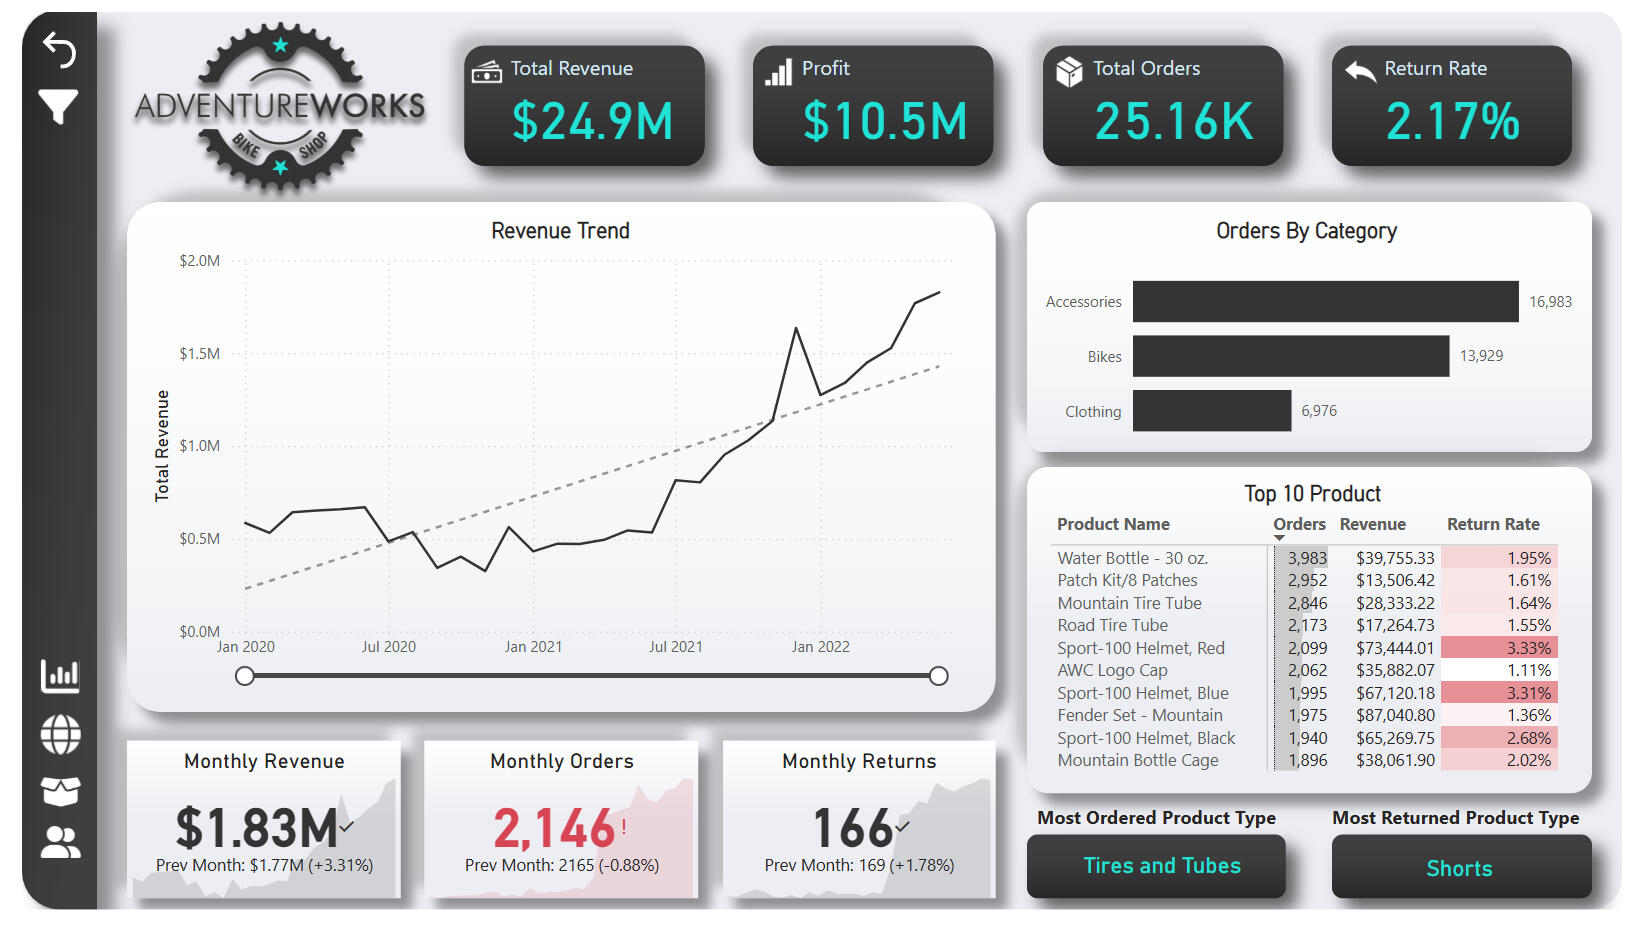

What the dashboard file says about the page in this screenshot:
{"tool":"powerbi","page":{"name":"Main Dashboard","canvas":[1280,720],"ordinal":0},"visuals":[{"type":"actionButton","box":[10.7,511.6,40,39.2],"z":0,"group":"g1"},{"type":"lineChart","title":"Revenue Trend","fields":{"Y":["Measure Table.Total Revenue"],"Category":["Calendar Lookup.Year","Calendar Lookup.Start of Quarter","Calendar Lookup.Start of Month"]},"box":[98.9,164.4,664.4,377.8],"z":1000},{"type":"actionButton","box":[10.7,557.4,40,40],"z":1000,"group":"g1"},{"type":"kpi","title":"Monthly Revenue","fields":{"Indicator":["Measure Table.Total Revenue"],"TrendLine":["Calendar Lookup.Start of Month"],"Goal":["Measure Table.Previous Month Revenue"]},"box":[84.5,589,220,125],"z":2000},{"type":"actionButton","box":[10.7,643.3,40,40],"z":2000,"group":"g1"},{"type":"kpi","title":"Monthly Orders","fields":{"TrendLine":["Calendar Lookup.Start of Month"],"Indicator":["Measure Table.Total Orders"],"Goal":["Measure Table.Previous Month Orders"]},"box":[322.5,589,220,125],"z":3000},{"type":"actionButton","box":[10.7,603.3,40,40],"z":3000,"group":"g1"},{"type":"kpi","title":"Monthly Returns","fields":{"TrendLine":["Calendar Lookup.Start of Month"],"Indicator":["Measure Table.Total Returns"],"Goal":["Measure Table.Previous Month Return"]},"box":[560.5,589,220,125],"z":4000},{"type":"clusteredBarChart","title":"Orders By Category","fields":{"Category":["Categories Lookup.CategoryName"],"Y":["Measure Table.Total Orders"]},"box":[808.9,164.4,437.8,195.6],"z":5000},{"type":"pivotTable","title":"Top 10 Product","fields":{"Rows":["Product Lookup.ProductName"],"Values":["Measure Table.Total Orders","Measure Table.Total Revenue","Measure Table.Return Rate"]},"box":[817.8,374.4,428.9,248.9],"z":6000},{"type":"card","fields":{"Values":["Min(Subcategories Lookup.SubcategoryName)"]},"box":[808.9,657.8,206.7,50],"z":7000},{"type":"textbox","box":[806.7,628.9,212.2,38.9],"z":8000},{"type":"card","fields":{"Values":["Min(Subcategories Lookup.SubcategoryName)"]},"box":[1046.7,660,207.8,50],"z":9000},{"type":"textbox","box":[1043.3,628.9,211.1,38.9],"z":10000},{"type":"actionButton","box":[10,10,45.5,40],"z":11000},{"type":"group","id":"g1","title":"Nav Button","box":[10.7,511.6,40,171.2],"z":12000},{"type":"actionButton","box":[9.1,56.4,42.7,40],"z":13000},{"type":"cardVisual","fields":{"Data":["Measure Table.Total Revenue","Measure Table.Profit","Measure Table.Total Orders","Measure Table.Return Rate"]},"box":[340,16,922,112],"z":15000},{"type":"image","box":[55,0,300,171],"z":15502}]}

Visuals, with their boxes on the page's 1280x720 design canvas (x1, y1, x2, y2). These are canvas units, not pixel positions in the 1650x935 screenshot, which may show the page scaled, cropped or inside an application window:
actionButton: [11,512,51,551]
"Revenue Trend" lineChart: [99,164,763,542]
actionButton: [11,557,51,597]
"Monthly Revenue" kpi: [84,589,304,714]
actionButton: [11,643,51,683]
"Monthly Orders" kpi: [322,589,542,714]
actionButton: [11,603,51,643]
"Monthly Returns" kpi: [560,589,780,714]
"Orders By Category" clusteredBarChart: [809,164,1247,360]
"Top 10 Product" pivotTable: [818,374,1247,623]
card - Min(Subcategories Lookup.SubcategoryName): [809,658,1016,708]
textbox: [807,629,1019,668]
card - Min(Subcategories Lookup.SubcategoryName): [1047,660,1254,710]
textbox: [1043,629,1254,668]
actionButton: [10,10,56,50]
"Nav Button" group: [11,512,51,683]
actionButton: [9,56,52,96]
cardVisual - Measure Table.Total Revenue x Measure Table.Profit: [340,16,1262,128]
image: [55,0,355,171]
